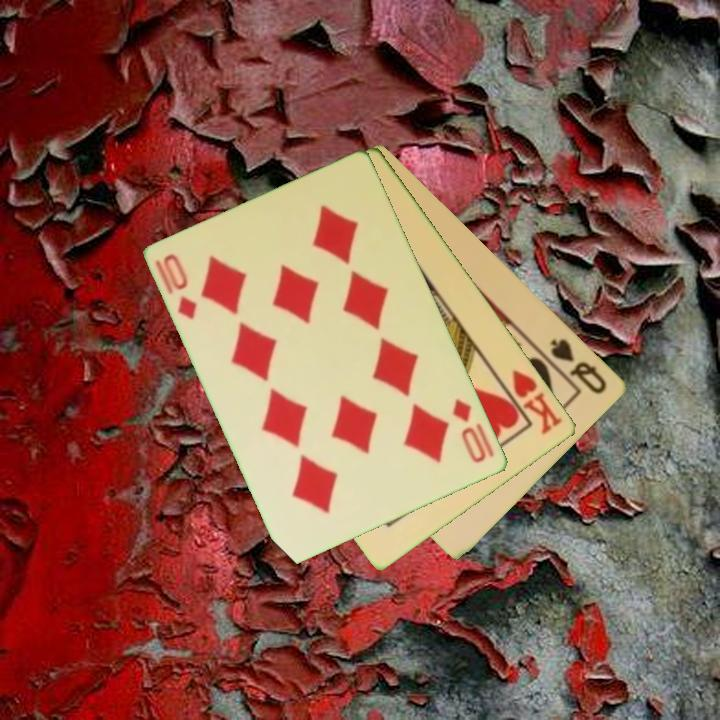10d: (449, 395, 498, 466), (160, 250, 201, 323)
Kh: (495, 366, 566, 438)
Qs: (547, 335, 611, 397)
